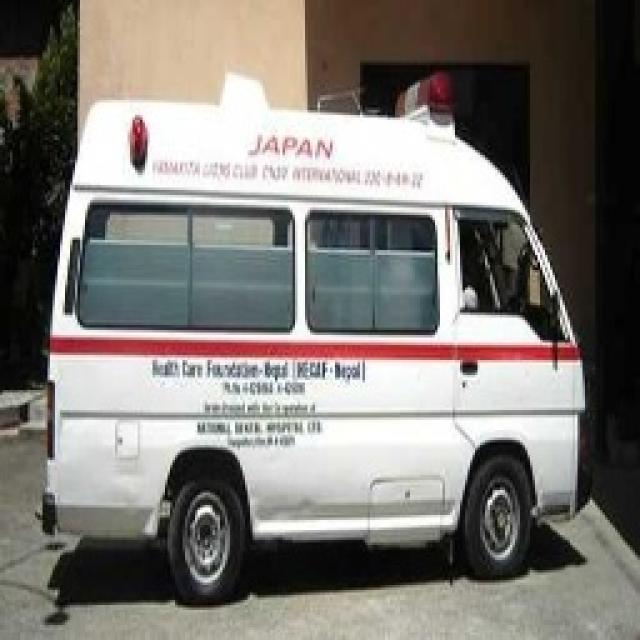emergency-vehicle: (31, 66, 607, 598)
